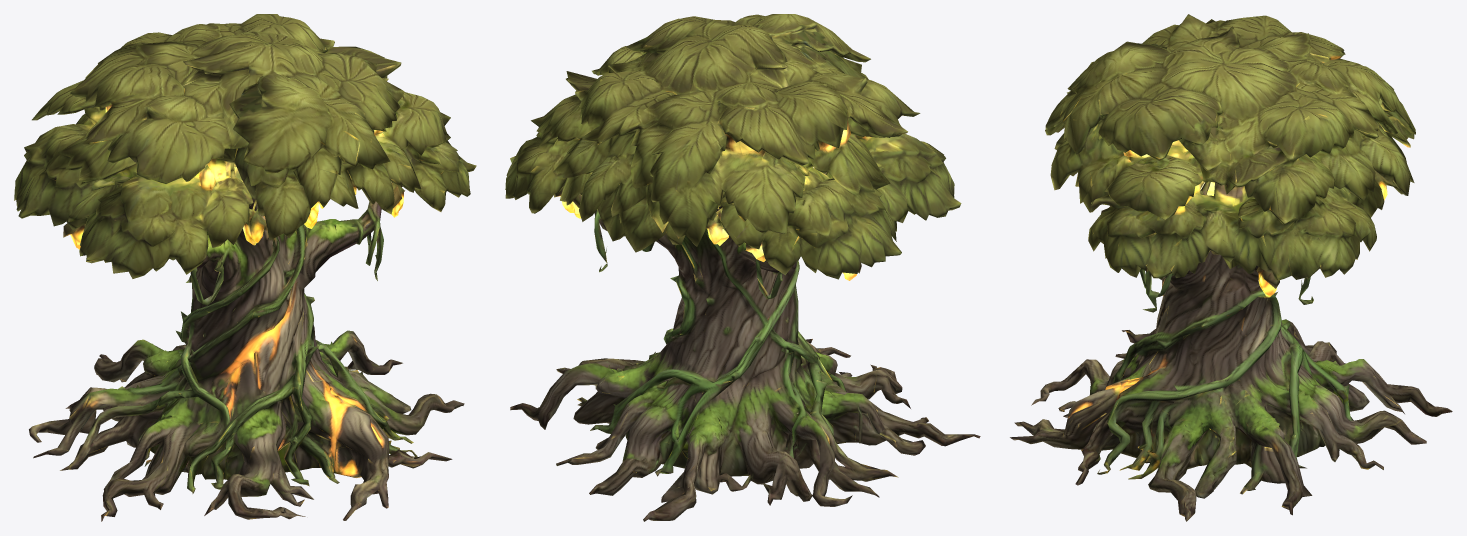
Rendered from eldercanopy_meshy_v01_prepared.fbx.
3 views of the same model, side by side, from view 1: azimuth 30°, elevation 25°; view 2: azimuth 150°, elevation 25°; view 3: azimuth 270°, elevation 25° (orthographic). The views are drawn at different scales.
Visible parts, largest first — view 1: Mesh1.0; view 2: Mesh1.0; view 3: Mesh1.0.
Part boxes in pixels (x1,y1,x2,y2): Mesh1.0: (14, 14, 476, 521); Mesh1.0: (505, 14, 980, 521); Mesh1.0: (1010, 14, 1452, 521).
Bounding box in the file's own units: 129 × 125 × 129.
